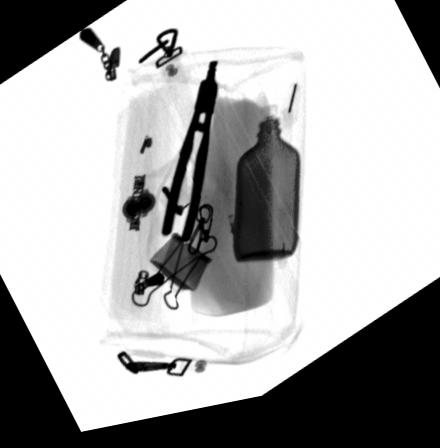Pliers: (159, 68, 219, 251)
